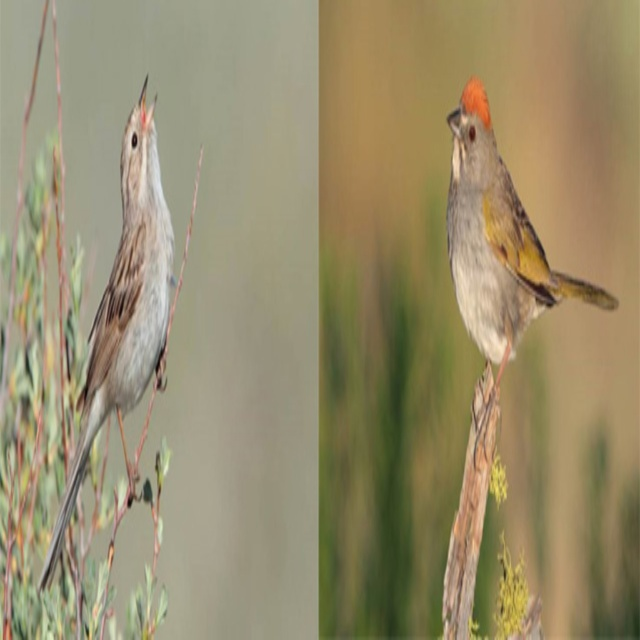Sparrow: (36, 70, 182, 597), (445, 74, 618, 473)
